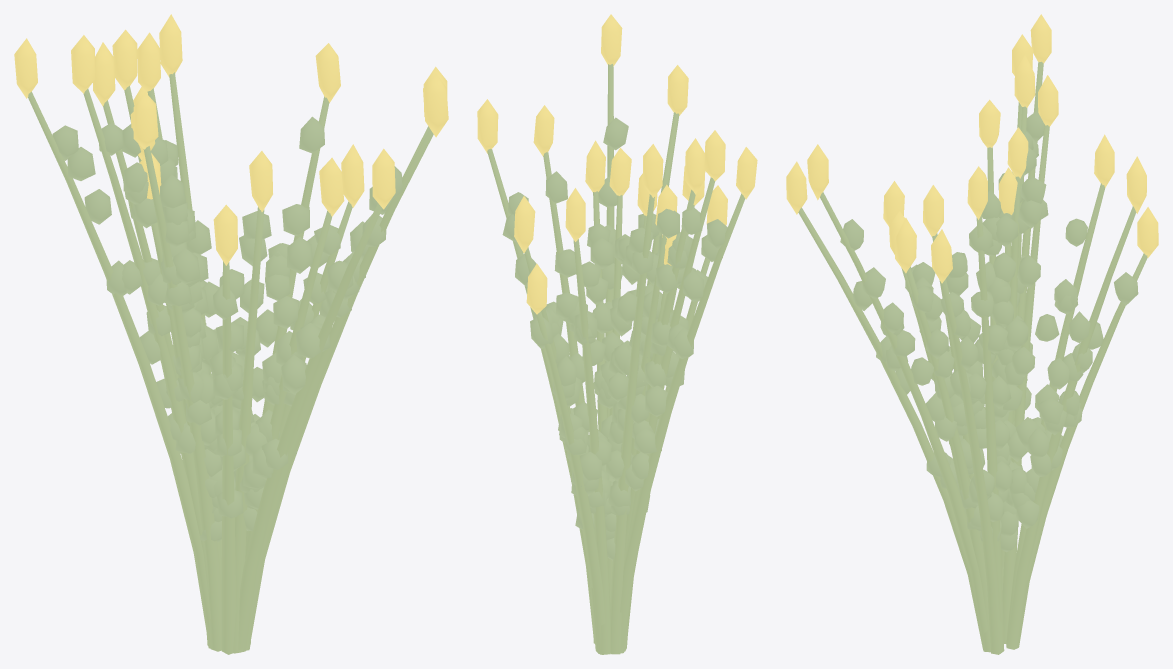
File: Blender_Ocotillo_1.glb
3 renders of one model, left to right at view 1: azimuth 30°, elevation 25°; view 2: azimuth 150°, elevation 25°; view 3: azimuth 270°, elevation 25°, orthographic. The views are drawn at different scales.
Visible parts, largest first — view 1: Blender_Ocotillo_1; view 2: Blender_Ocotillo_1; view 3: Blender_Ocotillo_1.
Boxes of the visible parts, box(x1,y1,x2,y2) form: Blender_Ocotillo_1: box(14, 14, 448, 654); Blender_Ocotillo_1: box(477, 14, 757, 654); Blender_Ocotillo_1: box(786, 14, 1158, 654).
Size of the model in its own units: 2.85 by 4.62 by 2.8.
